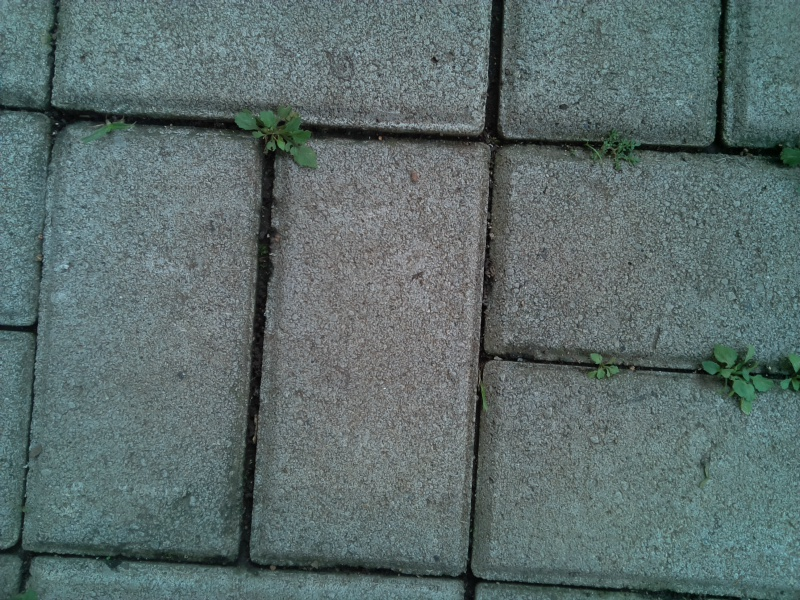Weed: (226, 104, 320, 174), (693, 341, 775, 416), (580, 129, 645, 177), (573, 349, 619, 387), (471, 366, 501, 416), (85, 118, 130, 143), (781, 349, 800, 397), (776, 137, 800, 170)
